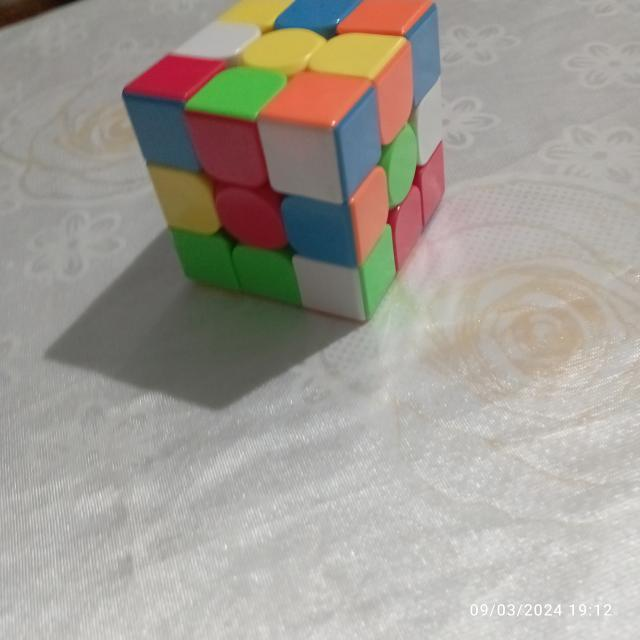Rub: (119, 0, 450, 325)
